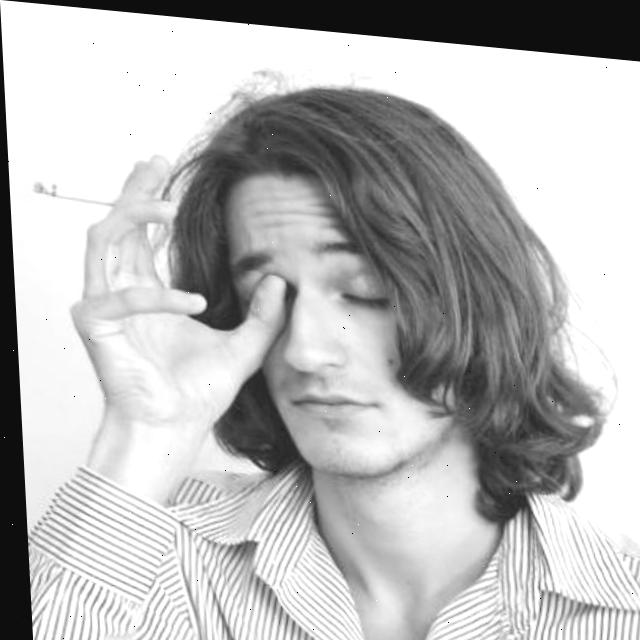cigarette: (29, 179, 123, 205)
